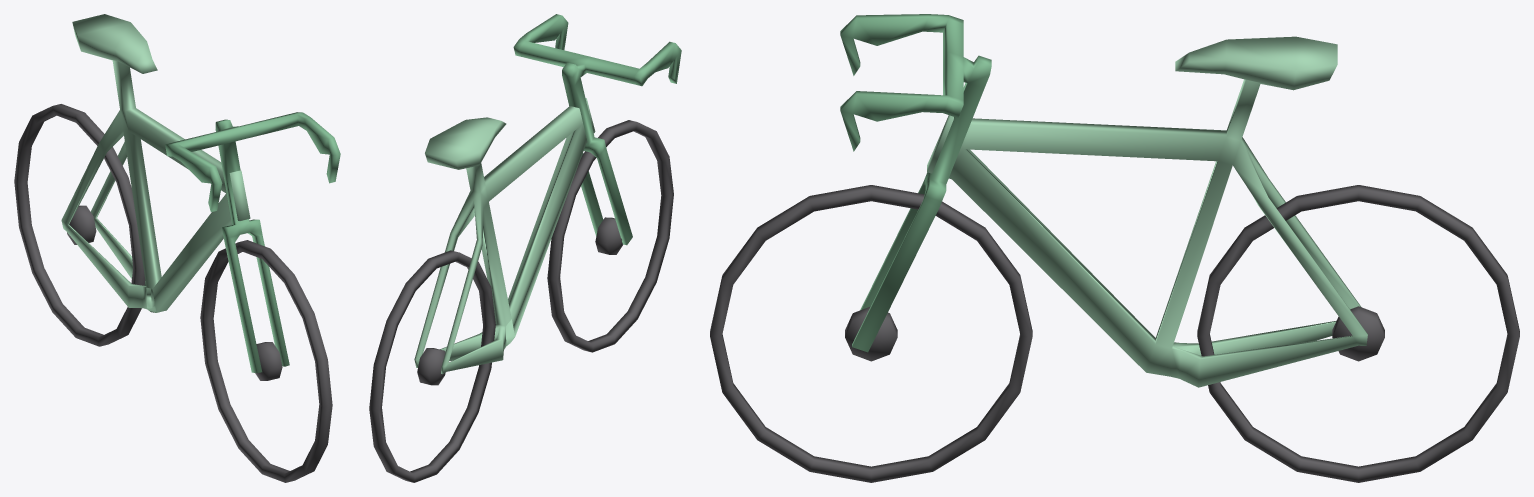
The model's file is superbicycle.fbx.
3 renders of one model, left to right at view 1: azimuth 30°, elevation 25°; view 2: azimuth 150°, elevation 25°; view 3: azimuth 270°, elevation 25°, orthographic. The views are drawn at different scales.
Parts seen in each view (by area): view 1: Cube, Cube_001, Cylinder_001, Cylinder; view 2: Cube, Cylinder, Cylinder_001, Cube_001; view 3: Cube, Cylinder_001, Cylinder, Cube_001.
Boxes of the visible parts, <box> form: Cube: <box>61,14,250,312</box>; Cube_001: <box>165,112,340,372</box>; Cylinder_001: <box>200,240,332,482</box>; Cylinder: <box>14,104,145,346</box>; Cube: <box>414,98,595,374</box>; Cylinder: <box>369,250,495,482</box>; Cylinder_001: <box>547,120,673,352</box>; Cube_001: <box>513,14,681,245</box>; Cube: <box>927,36,1367,387</box>; Cylinder_001: <box>710,185,1032,482</box>; Cylinder: <box>1197,185,1519,482</box>; Cube_001: <box>840,14,991,352</box>.
Bounding box in the file's own units: 3.07 × 7.29 × 12.43.
